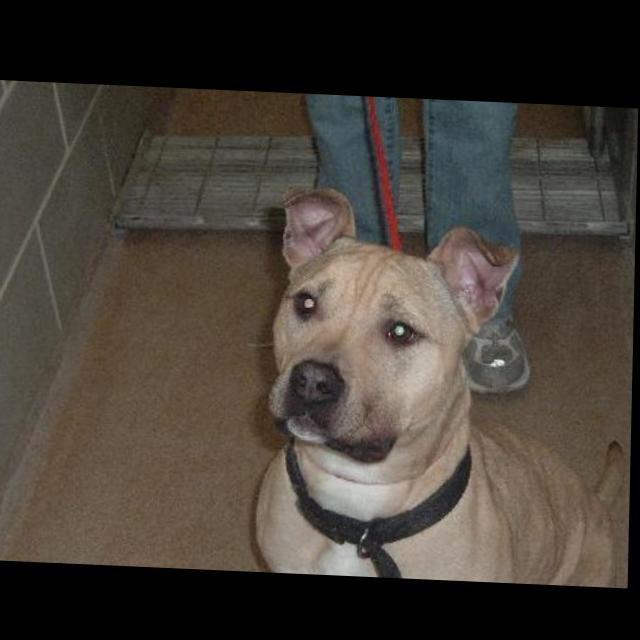staffford: (250, 181, 638, 583)
